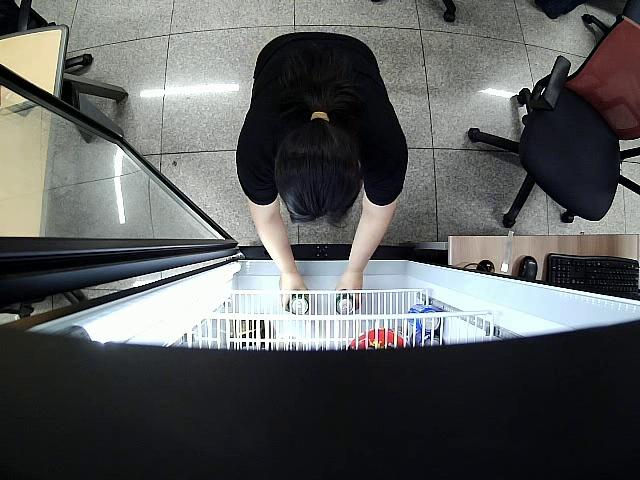00_hand: (332, 272, 363, 313), (279, 274, 311, 311)
12_chilsungCider: (332, 294, 357, 315), (286, 297, 310, 316)
